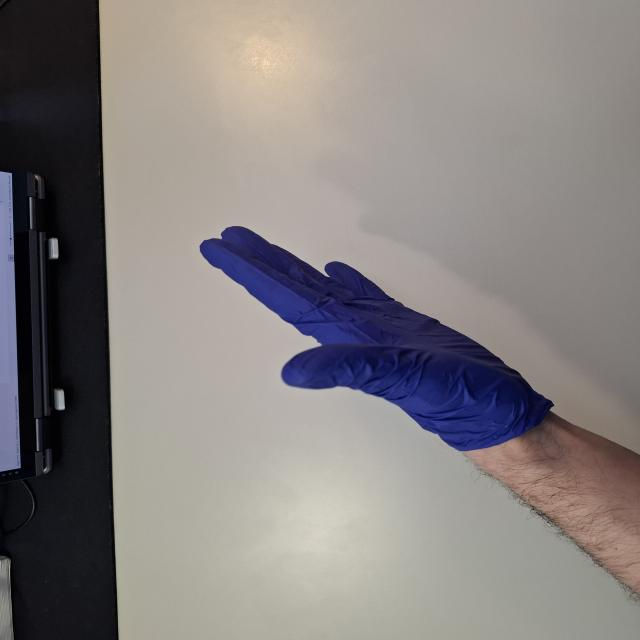glove_on: (197, 224, 555, 451)
